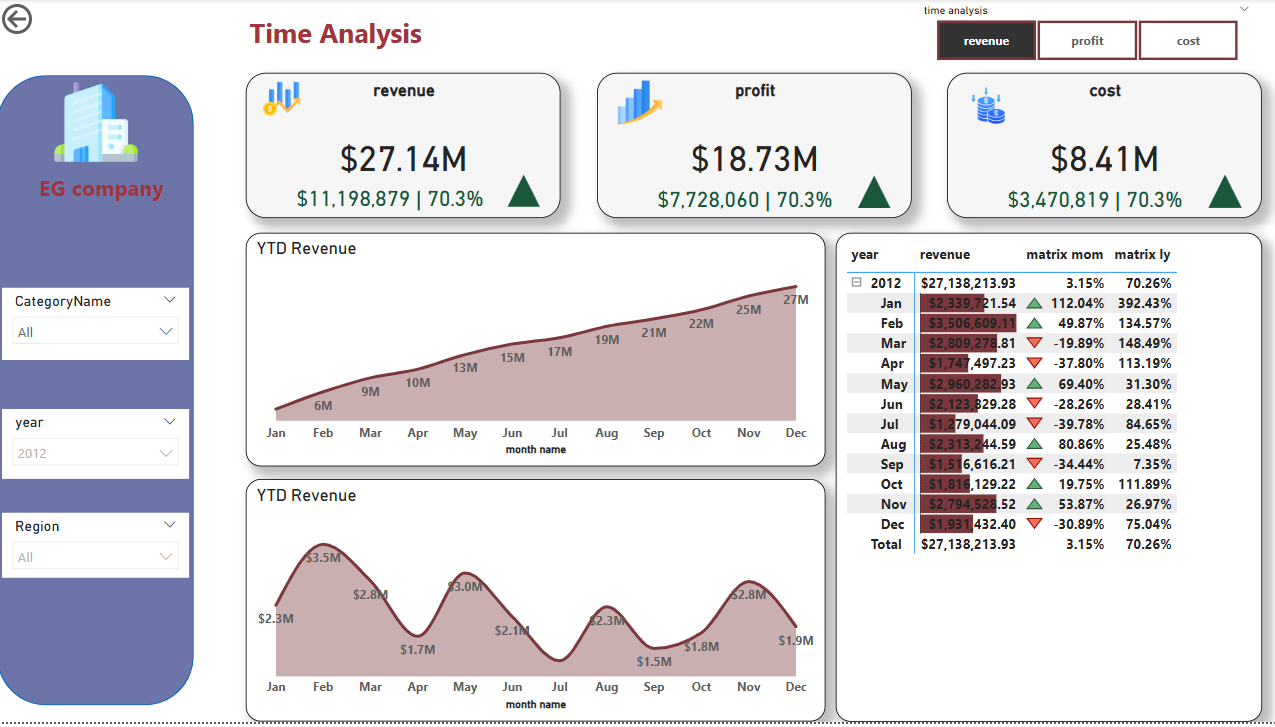

The page's visual inventory and layout, read from the dashboard file:
{"tool":"powerbi","page":{"name":"time analysis","canvas":[1280,720],"ordinal":3},"visuals":[{"type":"slicer","fields":{"Values":["time analysis.time analysis"]},"box":[910.9,0,349.9,67.6],"z":0},{"type":"shape","box":[0,75.4,196,627.7],"z":1000},{"type":"card","title":"revenue","fields":{"Values":["calculations.revenue"]},"box":[247.4,73.7,313.9,145.1],"z":2000},{"type":"card","title":"profit","fields":{"Values":["calculations.profit"]},"box":[597.2,73.7,313.9,145.1],"z":3000},{"type":"card","title":"cost","fields":{"Values":["calculations.cost"]},"box":[947,73.7,313.9,145.1],"z":4000},{"type":"stackedAreaChart","fields":{"Y":["calculations.YTD over dash"],"Category":["calendar.month name"]},"box":[247.3,232.8,577.9,232.8],"z":5000},{"type":"stackedAreaChart","fields":{"Y":["calculations.revenue"],"Category":["calendar.month name"]},"box":[247.3,477.8,577.9,241.3],"z":6000},{"type":"pivotTable","fields":{"Values":["calculations.revenue","calculations.matrix mom","calculations.matrix ly"],"Rows":["calendar.year","calendar.month name"]},"box":[836.1,232.8,424.7,487.4],"z":7000},{"type":"slicer","fields":{"Values":["product.CategoryName"]},"box":[5,287.8,186.1,72],"z":8000},{"type":"slicer","fields":{"Values":["customers.Region"]},"box":[5,512.3,186.1,64.5],"z":9000},{"type":"slicer","fields":{"Values":["calendar.year"]},"box":[5,408.1,186.1,69.5],"z":10000},{"type":"image","box":[18.6,75.4,160,93],"z":11000},{"type":"textbox","box":[12.4,168.5,183.6,89.3],"z":12000},{"type":"textbox","box":[246.9,9.9,341.2,47.1],"z":13000},{"type":"card","fields":{"Values":["calculations.profit arrow"]},"box":[836.9,170.6,74.7,42.3],"z":14000},{"type":"card","fields":{"Values":["calculations.Profit show varince"]},"box":[616.5,170.6,257.8,57.3],"z":15000},{"type":"card","fields":{"Values":["calculations.rev show varince rev"]},"box":[262.8,169.4,257.8,57.3],"z":16000},{"type":"card","fields":{"Values":["calculations.rev arrow"]},"box":[488.2,169.4,73.5,42.3],"z":17000},{"type":"card","fields":{"Values":["calculations.cost arrow"]},"box":[1186.8,168.1,73.5,44.8],"z":18000},{"type":"card","fields":{"Values":["calculations.cost show varince"]},"box":[965.2,170.6,257.8,57.3],"z":19000},{"type":"image","box":[246.6,76,74.7,47.3],"z":20000},{"type":"actionButton","box":[0,0,49.8,39.9],"z":21000},{"type":"image","box":[597.8,76,84.7,54.8],"z":22000},{"type":"image","box":[946.5,82.2,80.9,48.6],"z":23000}]}

Visuals, with their boxes in screenshot pixels (x1, y1, x2, y2), scaled from the page's 1280x720 canvas onto the 1275x727 screenshot:
slicer - time analysis.time analysis: <box>907,0,1256,68</box>
shape: <box>0,76,195,710</box>
"revenue" card: <box>246,74,559,221</box>
"profit" card: <box>595,74,908,221</box>
"cost" card: <box>943,74,1256,221</box>
stackedAreaChart - calculations.YTD over dash x calendar.month name: <box>246,235,822,470</box>
stackedAreaChart - calculations.revenue x calendar.month name: <box>246,482,822,726</box>
pivotTable - calculations.revenue x calculations.matrix mom: <box>833,235,1256,726</box>
slicer - product.CategoryName: <box>5,291,190,363</box>
slicer - customers.Region: <box>5,517,190,582</box>
slicer - calendar.year: <box>5,412,190,482</box>
image: <box>19,76,178,170</box>
textbox: <box>12,170,195,260</box>
textbox: <box>246,10,586,58</box>
card - calculations.profit arrow: <box>834,172,908,215</box>
card - calculations.Profit show varince: <box>614,172,871,230</box>
card - calculations.rev show varince rev: <box>262,171,519,229</box>
card - calculations.rev arrow: <box>486,171,560,214</box>
card - calculations.cost arrow: <box>1182,170,1255,215</box>
card - calculations.cost show varince: <box>961,172,1218,230</box>
image: <box>246,77,320,124</box>
actionButton: <box>0,0,50,40</box>
image: <box>595,77,680,132</box>
image: <box>943,83,1023,132</box>
